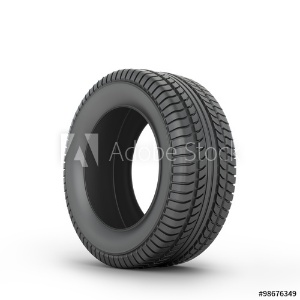tire: (64, 68, 242, 270)
